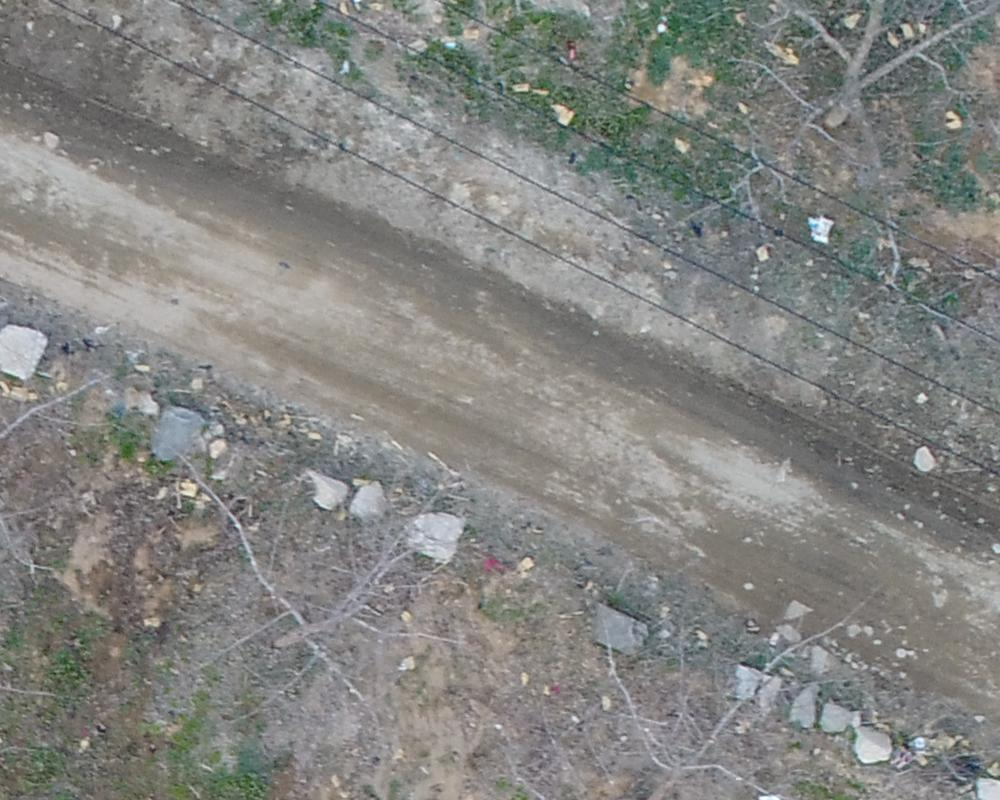apple: (182, 464, 473, 722), (522, 584, 867, 790), (754, 10, 990, 244), (10, 352, 125, 575)
